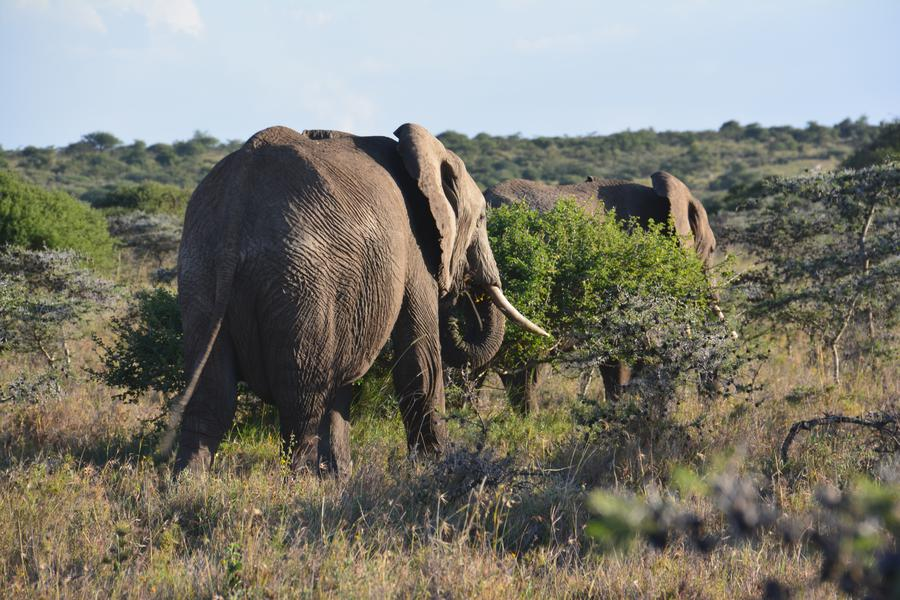elephant: (175, 125, 496, 430)
